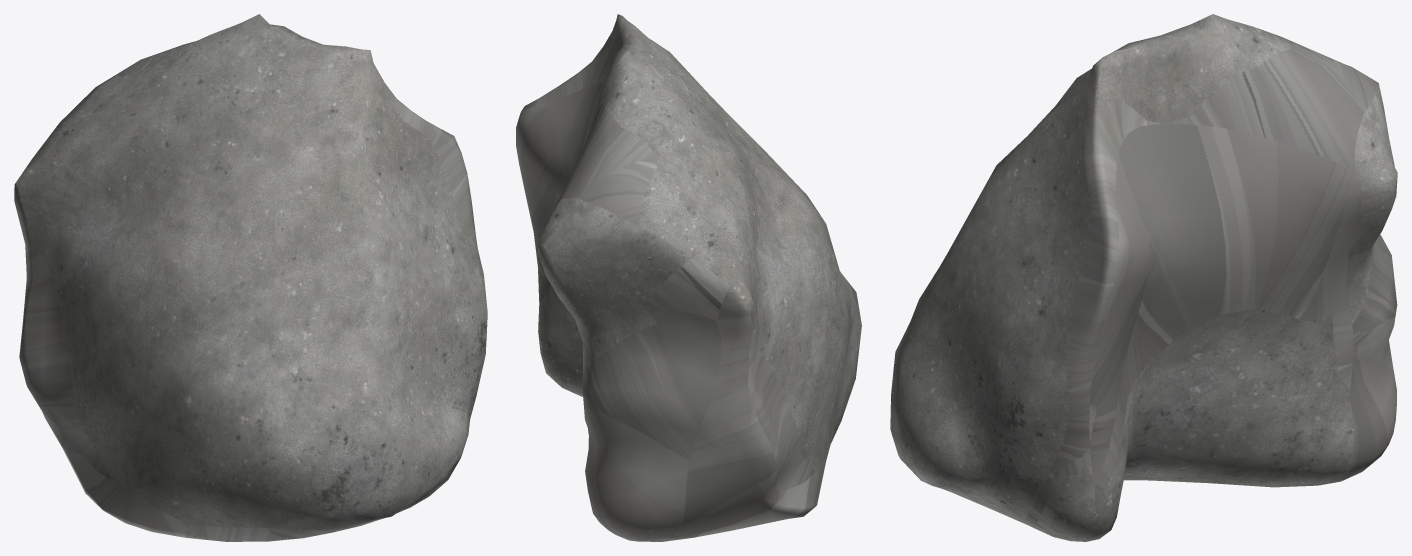
The model's file is rock5.fbx.
3 views of the same model, side by side, from view 1: azimuth 30°, elevation 25°; view 2: azimuth 150°, elevation 25°; view 3: azimuth 270°, elevation 25° (orthographic). The views are drawn at different scales.
Parts seen in each view (by area): view 1: rock5; view 2: rock5; view 3: rock5.
Boxes of the visible parts, x1=… form: rock5: x1=14, y1=14, x2=487, y2=541; rock5: x1=516, y1=14, x2=861, y2=541; rock5: x1=890, y1=14, x2=1397, y2=541.
Size of the model in its own units: 461 by 568 by 507.
Materials: 1 (1 with a texture image).
